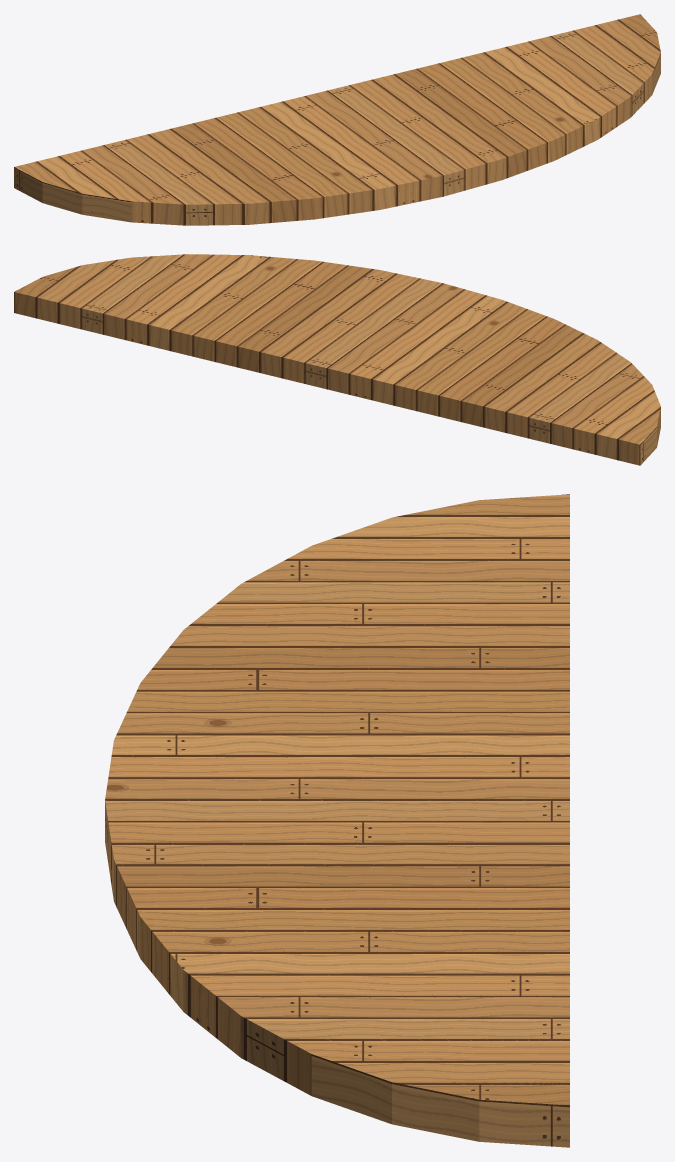
Rendered from FLOOR_STERN.glb.
The picture shows the model from 3 angles, top to bottom: view 1: azimuth 30°, elevation 25°; view 2: azimuth 150°, elevation 25°; view 3: azimuth 270°, elevation 25°; orthographic projection. The views are drawn at different scales.
Parts seen in each view (by area): view 1: FLOOR_STERN; view 2: FLOOR_STERN; view 3: FLOOR_STERN.
Boxes of the visible parts, x1=… form: FLOOR_STERN: x1=14, y1=14, x2=660, y2=225; FLOOR_STERN: x1=14, y1=254, x2=660, y2=465; FLOOR_STERN: x1=105, y1=494, x2=569, y2=1147.
Bounding box in the file's own units: 5.6 × 0.18 × 1.8.
Materials: 1 (1 with a texture image).
